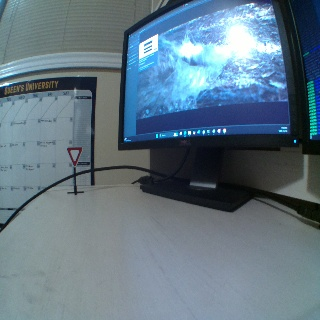sign_yield: (64, 146, 84, 166)
